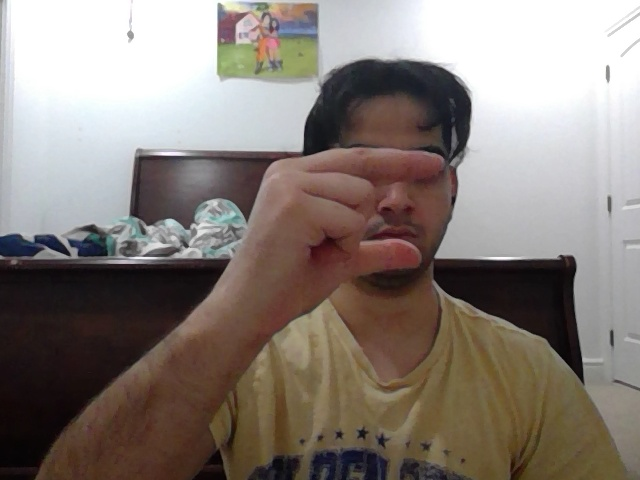No: (220, 147, 448, 321)
